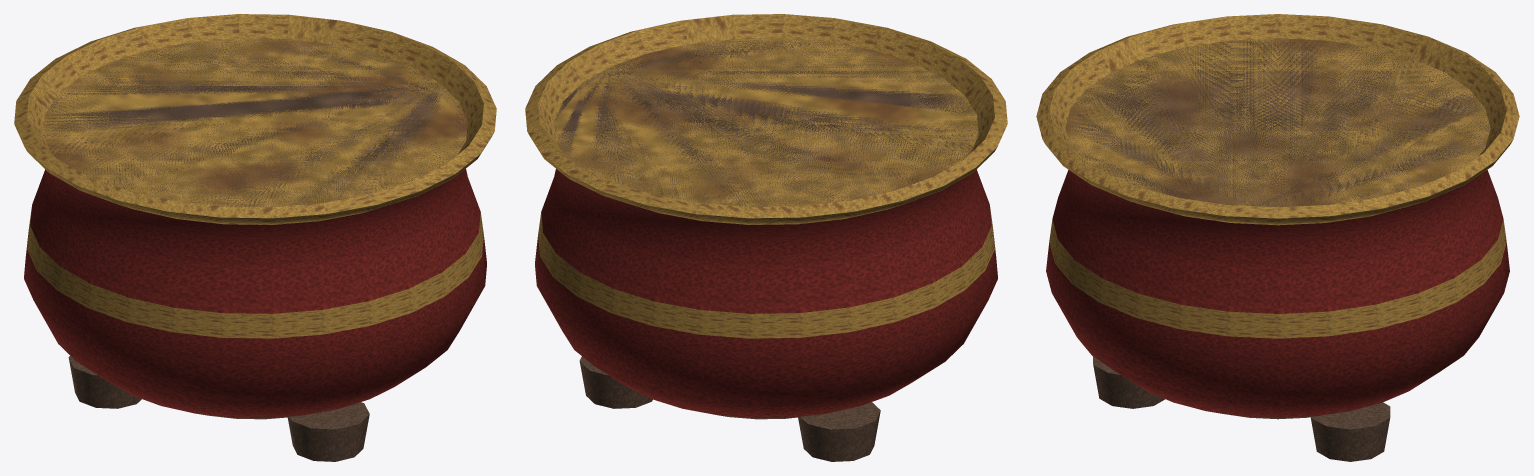
Rendered from IncensePot.fbx.
3 views of the same model, side by side, from view 1: azimuth 30°, elevation 25°; view 2: azimuth 150°, elevation 25°; view 3: azimuth 270°, elevation 25° (orthographic).
Visible parts, largest first — view 1: IncensePot; view 2: IncensePot; view 3: IncensePot.
Boxes of the visible parts, left/top/right/bottom form: IncensePot: left=14, top=14, right=496, bottom=461; IncensePot: left=525, top=14, right=1007, bottom=461; IncensePot: left=1036, top=14, right=1519, bottom=461.
Size of the model in its own units: 15 by 9.7 by 15.
1 material, 1 textured.
